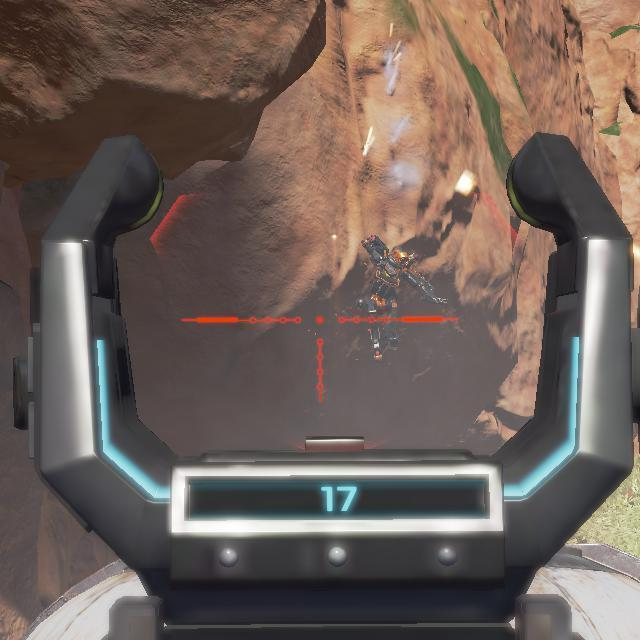avatar: (355, 245, 414, 362)
